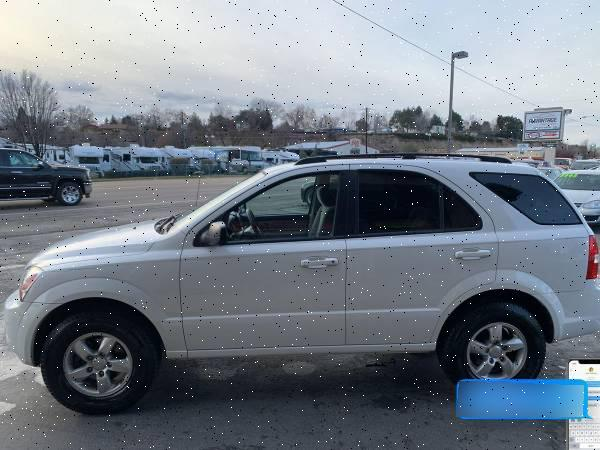Front_Bumper: (5, 288, 59, 366)
Front_Fender: (26, 231, 187, 362)
Front_Left_Door: (182, 236, 350, 359)
Front_Left_Window: (186, 165, 354, 247)
Hood: (29, 218, 167, 268)
Left_Headlight: (17, 264, 42, 301)
Left_Taillight: (585, 237, 600, 285)
Rear_Bumper: (535, 283, 599, 341)
Rear_Fender: (437, 166, 592, 292)
Rear_Left_Door: (347, 232, 501, 355)
Rear_Left_Window: (350, 165, 495, 237)
Wheel: (42, 306, 158, 414), (450, 299, 552, 396)
